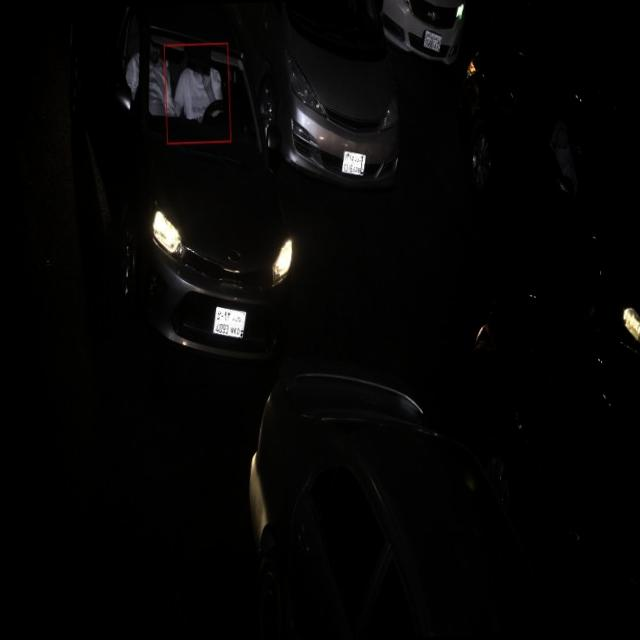person_without_seatbelt: (172, 54, 241, 128)
